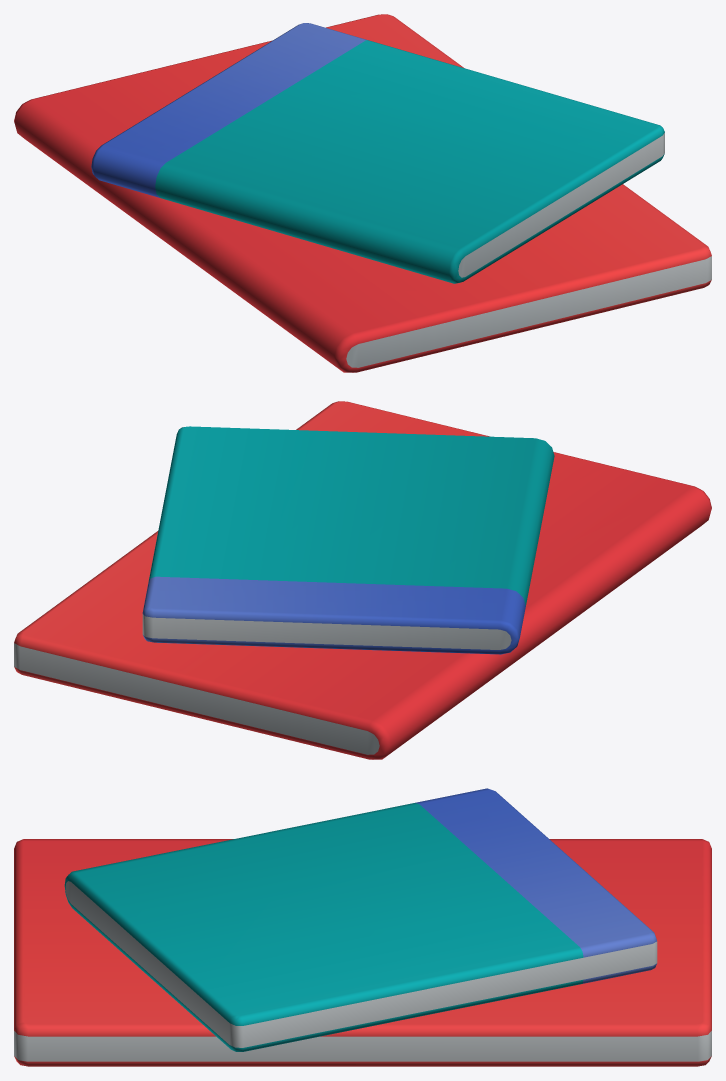
Rendered from Book_004.fbx.
The picture shows the model from 3 angles, top to bottom: view 1: azimuth 30°, elevation 25°; view 2: azimuth 150°, elevation 25°; view 3: azimuth 270°, elevation 25°; orthographic projection. The views are drawn at different scales.
Parts seen in each view (by area): view 1: Book_004; view 2: Book_004; view 3: Book_004.
Part boxes in pixels (left/top/right/bottom): Book_004: left=14, top=14, right=711, bottom=372; Book_004: left=14, top=401, right=711, bottom=759; Book_004: left=14, top=788, right=711, bottom=1066.
Bounding box in the file's own units: 0.2406 × 0.0373 × 0.3.
